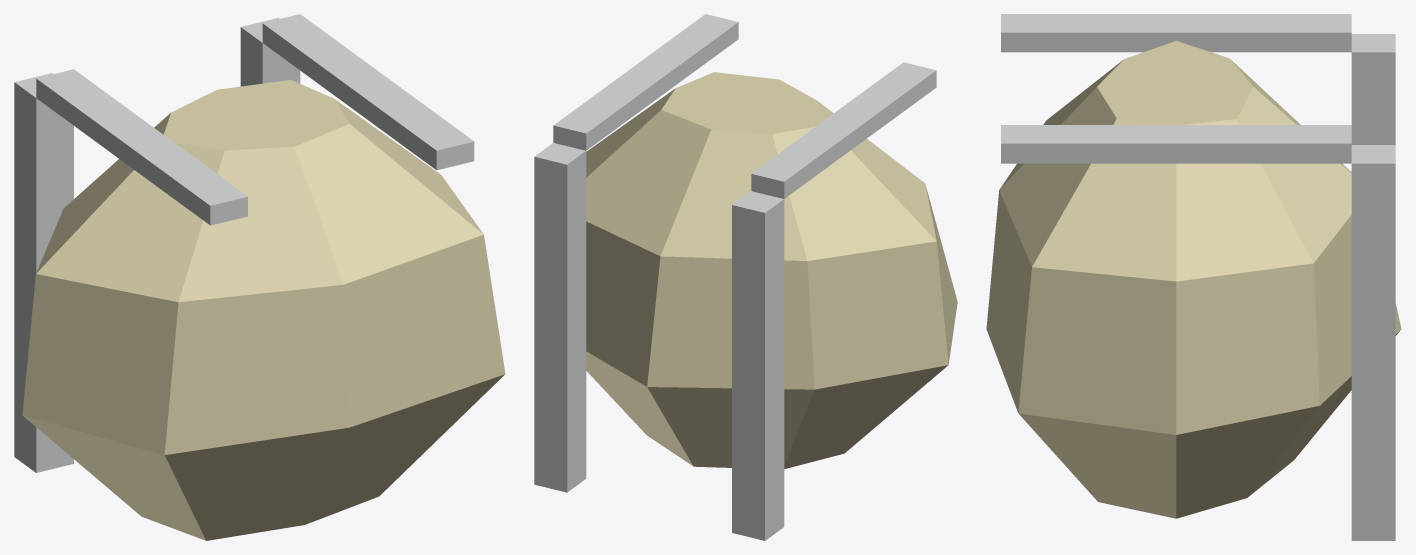
The model's file is bale.glb.
The picture shows the model from 3 angles, left to right: view 1: azimuth 30°, elevation 25°; view 2: azimuth 150°, elevation 25°; view 3: azimuth 270°, elevation 25°; orthographic projection. The views are drawn at different scales.
Visible parts, largest first — view 1: bale; view 2: bale; view 3: bale.
Boxes of the visible parts, bbox=[...] form: bale: bbox=[14, 14, 505, 540]; bale: bbox=[534, 14, 957, 540]; bale: bbox=[986, 14, 1401, 540].
Bounding box in the file's own units: 1.49 × 1.25 × 1.18.
